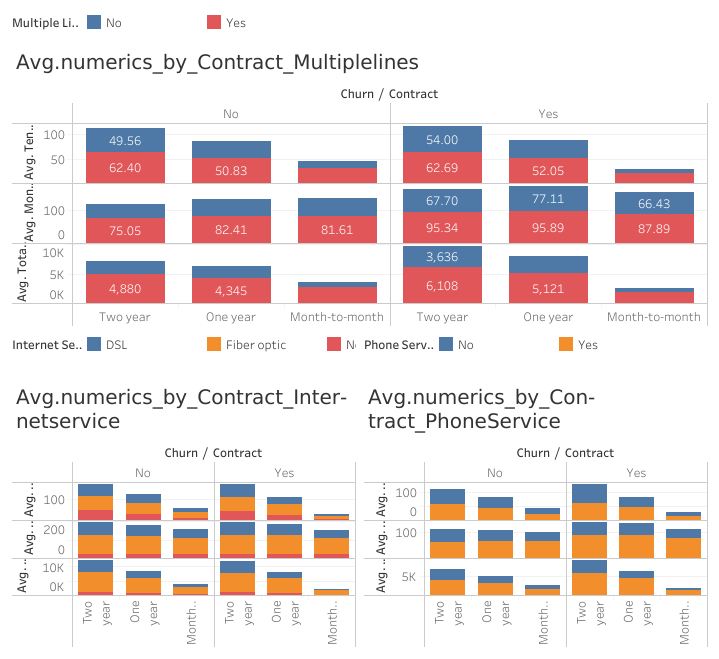

This screenshot's page, from the dashboard's own definition file:
{"tool":"tableau","page":{"name":"Services_dashboard 1","canvas":[1000,1000],"units":"permille","ordinal":2},"visuals":[{"type":"legend","title":"Avg.numerics_by_Contract_Multiplelines","param":"[federated.1cd4vsb0pbaci618jufcm0puo83k].[none:MultipleLines:nk]","box":[11.1,12.1,977.8,48.5]},{"type":"worksheet","title":"Avg.numerics_by_Contract_Multiplelines","mark":"Automatic","rows":["Tenure","MonthlyCharges","TotalCharges"],"cols":["Churn","Contract"],"box":[11.1,60.6,977.8,439.4]},{"type":"legend","title":"Avg.numerics_by_Contract_Internetservice","param":"[federated.1cd4vsb0pbaci618jufcm0puo83k].[none:InternetService:nk]","box":[11.1,500,488.9,68.2]},{"type":"legend","title":"Avg.numerics_by_Contract_PhoneService","param":"[federated.1cd4vsb0pbaci618jufcm0puo83k].[none:PhoneService:nk]","box":[500,500,488.9,68.2]},{"type":"worksheet","title":"Avg.numerics_by_Contract_Internetservice","mark":"Automatic","rows":["Tenure","MonthlyCharges","TotalCharges"],"cols":["Churn","Contract"],"box":[11.1,568.2,488.9,419.7]},{"type":"worksheet","title":"Avg.numerics_by_Contract_PhoneService","mark":"Automatic","rows":["Tenure","MonthlyCharges","TotalCharges"],"cols":["Churn","Contract"],"box":[500,568.2,488.9,419.7]}]}

Visuals, with their boxes on the dashboard's canvas, which has no fixed pixel size, in thousandths of its width and height (x1, y1, x2, y2). These are canvas units, not pixel positions in the 719x659 screenshot, which may show the page scaled, cropped or inside an application window:
"Avg.numerics_by_Contract_Multiplelines" legend: [11, 12, 989, 61]
"Avg.numerics_by_Contract_Multiplelines" worksheet: [11, 61, 989, 500]
"Avg.numerics_by_Contract_Internetservice" legend: [11, 500, 500, 568]
"Avg.numerics_by_Contract_PhoneService" legend: [500, 500, 989, 568]
"Avg.numerics_by_Contract_Internetservice" worksheet: [11, 568, 500, 988]
"Avg.numerics_by_Contract_PhoneService" worksheet: [500, 568, 989, 988]
